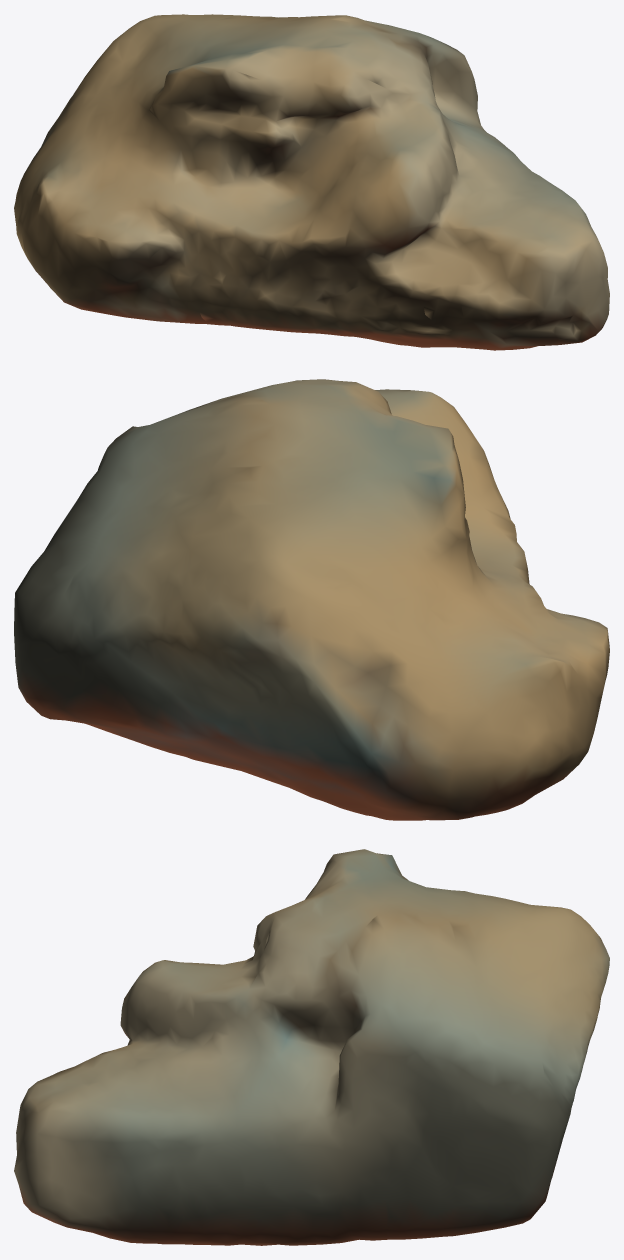
Rendered from rock23_low.fbx.
The picture shows the model from 3 angles, top to bottom: view 1: azimuth 30°, elevation 25°; view 2: azimuth 150°, elevation 25°; view 3: azimuth 270°, elevation 25°; orthographic projection. The views are drawn at different scales.
Visible parts, largest first — view 1: rock23_low; view 2: rock23_low; view 3: rock23_low.
Boxes of the visible parts, x1,y1,x2,y2 form: rock23_low: [14, 14, 609, 350]; rock23_low: [14, 379, 609, 820]; rock23_low: [14, 849, 609, 1245].
Bounding box in the file's own units: 0.8612 × 0.5268 × 1.01.
